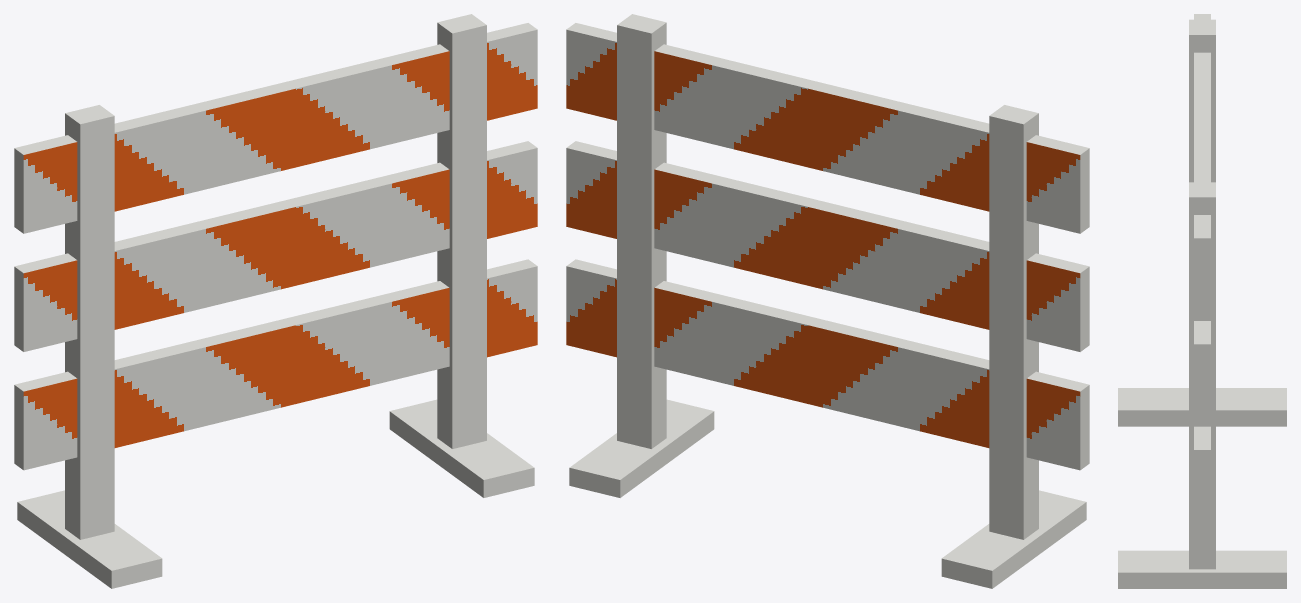
Rendered from workzone_barricade_type3_inv.obj.
3 renders of one model, left to right at view 1: azimuth 30°, elevation 25°; view 2: azimuth 150°, elevation 25°; view 3: azimuth 270°, elevation 25°, orthographic. The views are drawn at different scales.
Visible parts, largest first — view 1: workzone_barricade_type3_inv; view 2: workzone_barricade_type3_inv; view 3: workzone_barricade_type3_inv.
Boxes of the visible parts, box(x1,y1,x2,y2) form: workzone_barricade_type3_inv: box(14, 14, 537, 588); workzone_barricade_type3_inv: box(566, 14, 1089, 588); workzone_barricade_type3_inv: box(1118, 14, 1286, 588).
Size of the model in its own units: 1.38 by 1.11 by 0.4388.
